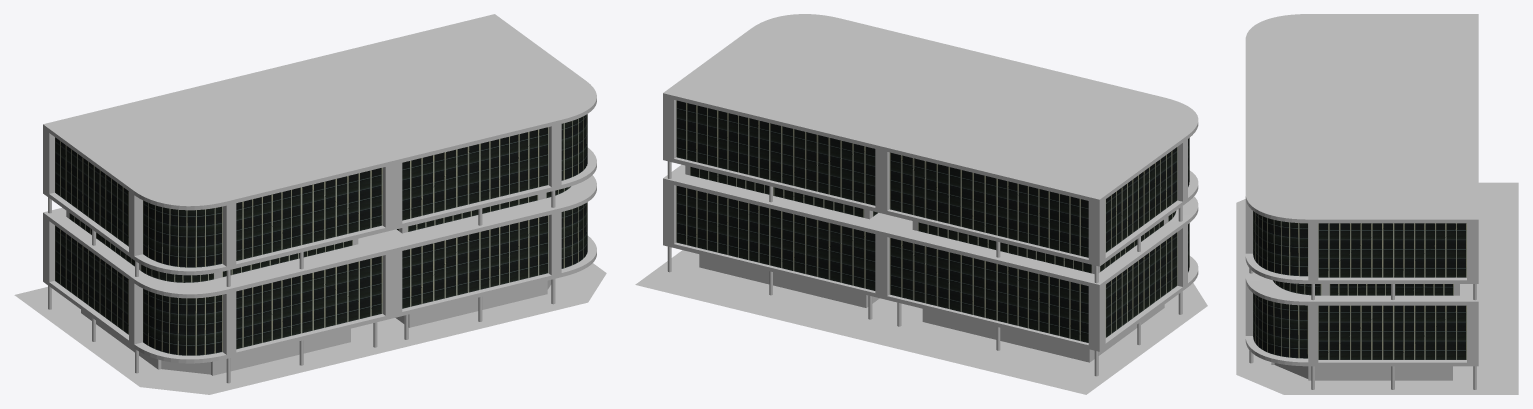
3 views of the same model, side by side, from view 1: azimuth 30°, elevation 25°; view 2: azimuth 150°, elevation 25°; view 3: azimuth 270°, elevation 25° (orthographic). The views are drawn at different scales.
Visible parts, largest first — view 1: DC-14; view 2: DC-14; view 3: DC-14.
Part boxes in pixels (x1,y1,x2,y2): DC-14: [14, 14, 606, 394]; DC-14: [635, 14, 1207, 394]; DC-14: [1236, 14, 1518, 394].
Size of what is drawn, in the model's own units: 72 by 27.2 by 40.41.
